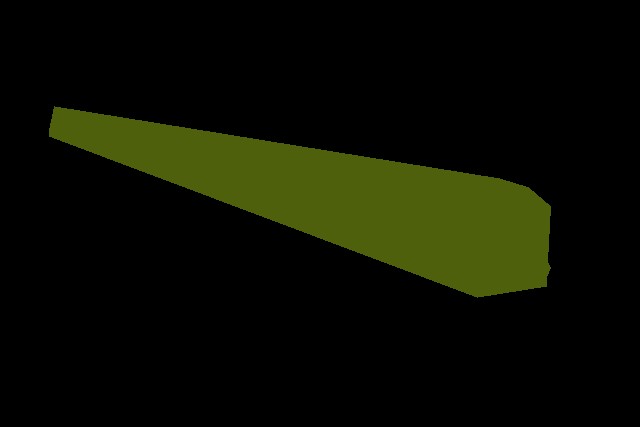Train: (49, 106, 550, 297)
